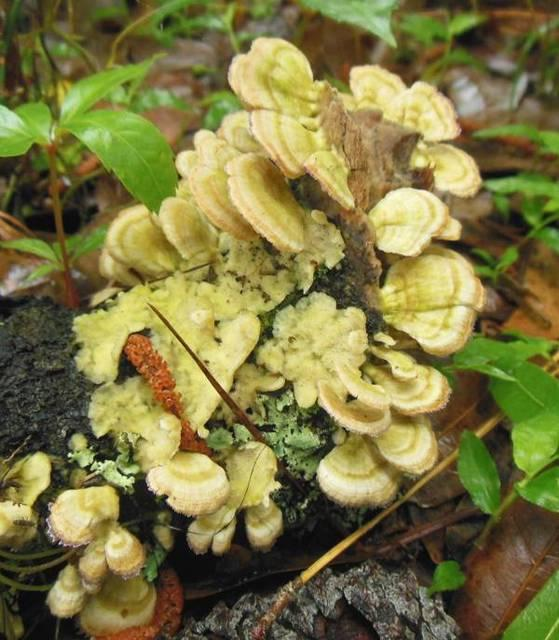Non-edible Mushroom: (0, 33, 501, 639), (144, 449, 230, 517)
